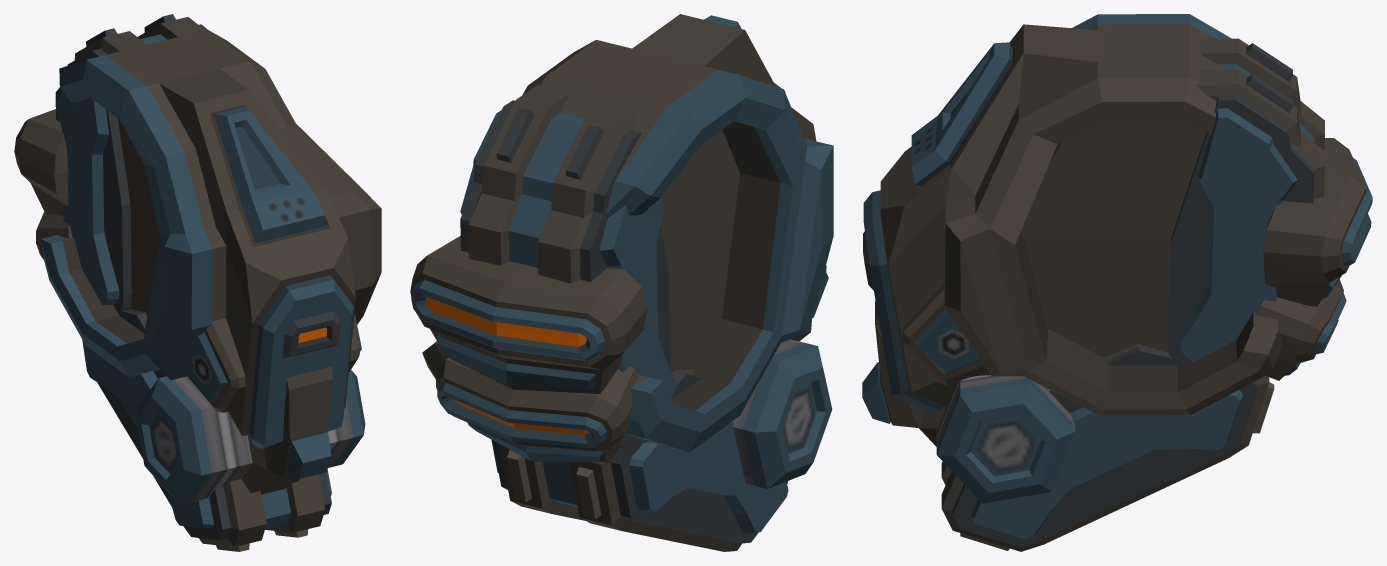
Rendered from SM_Mech_Leg_01_Armor_Thigh_01.fbx.
3 renders of one model, left to right at view 1: azimuth 30°, elevation 25°; view 2: azimuth 150°, elevation 25°; view 3: azimuth 270°, elevation 25°, orthographic. The views are drawn at different scales.
Visible parts, largest first — view 1: SM_Mech_Leg_01_Armor_Thigh_01; view 2: SM_Mech_Leg_01_Armor_Thigh_01; view 3: SM_Mech_Leg_01_Armor_Thigh_01.
Part boxes in pixels (x1=…): SM_Mech_Leg_01_Armor_Thigh_01: x1=14, y1=14, x2=381, y2=551; SM_Mech_Leg_01_Armor_Thigh_01: x1=410, y1=14, x2=833, y2=551; SM_Mech_Leg_01_Armor_Thigh_01: x1=862, y1=14, x2=1372, y2=551.
Bounding box in the file's own units: 49.17 × 102 × 97.44.
